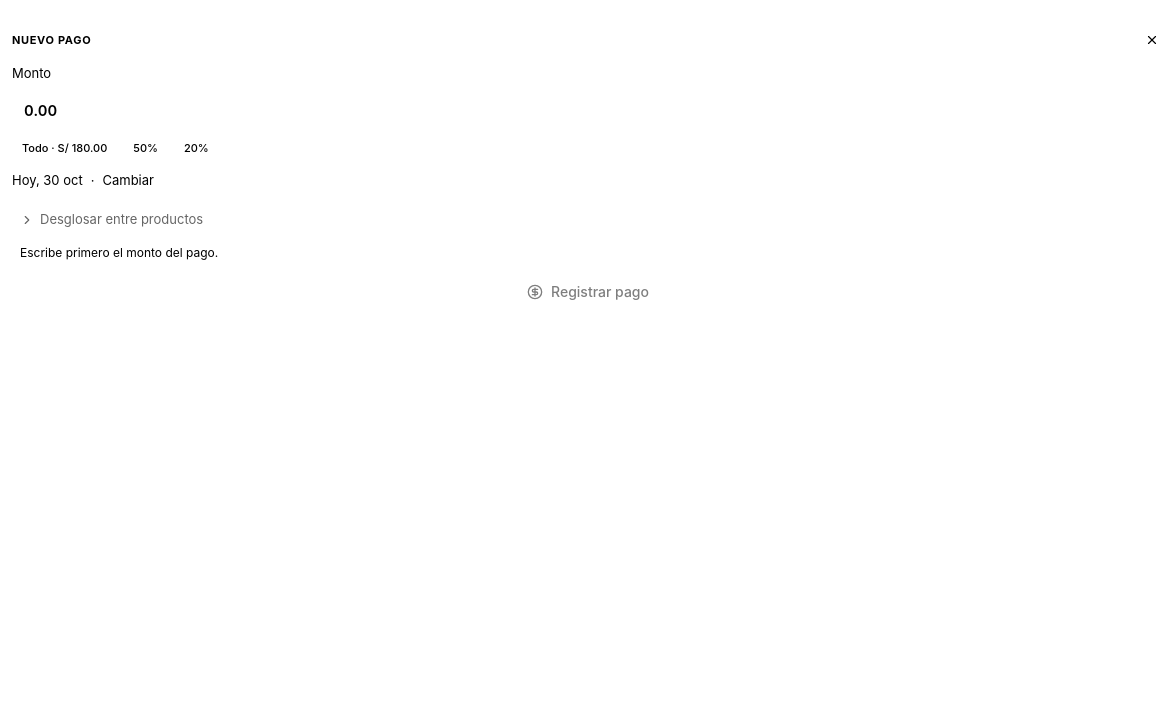
it: order payment breakdown · Marcar todos ticks and splits (§3.4) › lands every product on its own price, and pins none of them
This screenshot has width=1176, height=720.
Type "180.00" into the field labelled "Monto".
click(588, 111); type("180.00")  # box 12,90 -> 1164,132
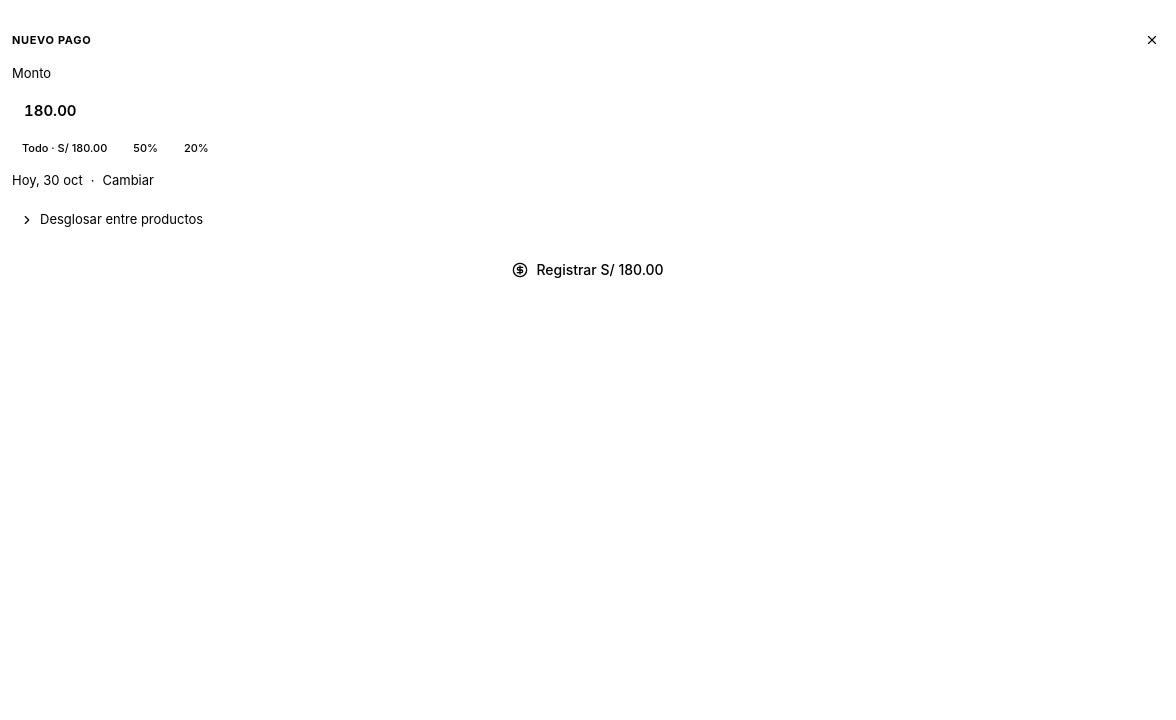
Click the button "Desglosar entre productos".
click(122, 219)  # box 12,200 -> 1164,240
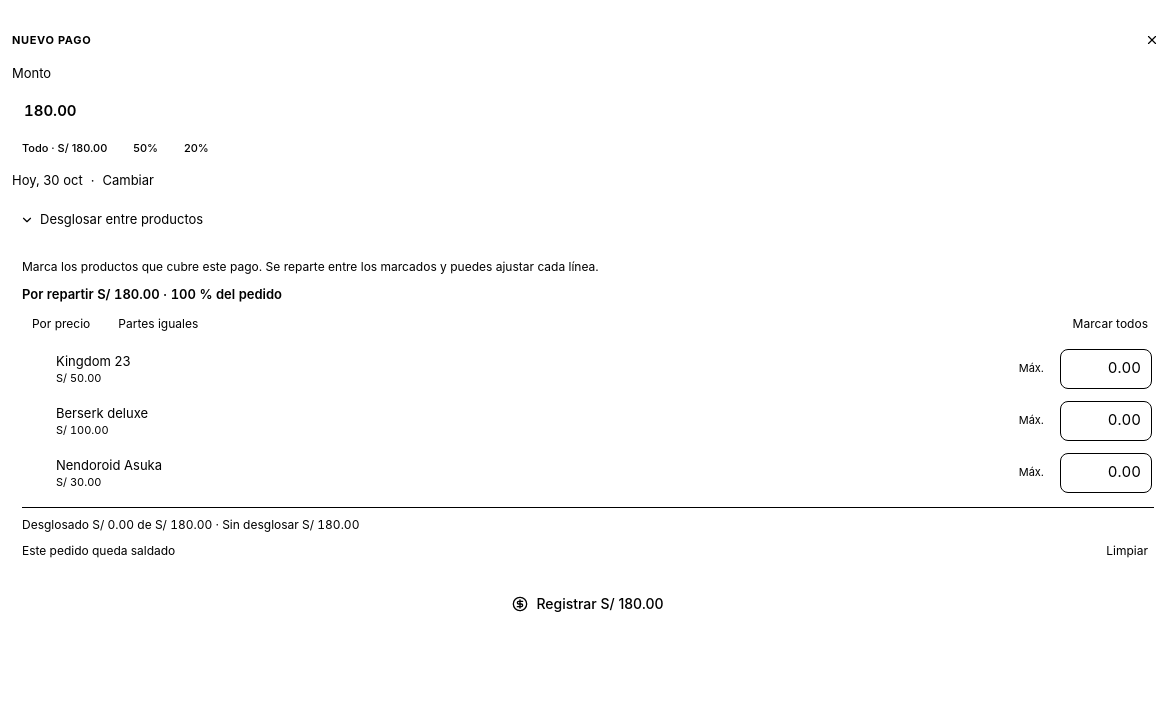
Click the button "Marcar todos".
click(1110, 324)  # box 1067,310 -> 1154,336
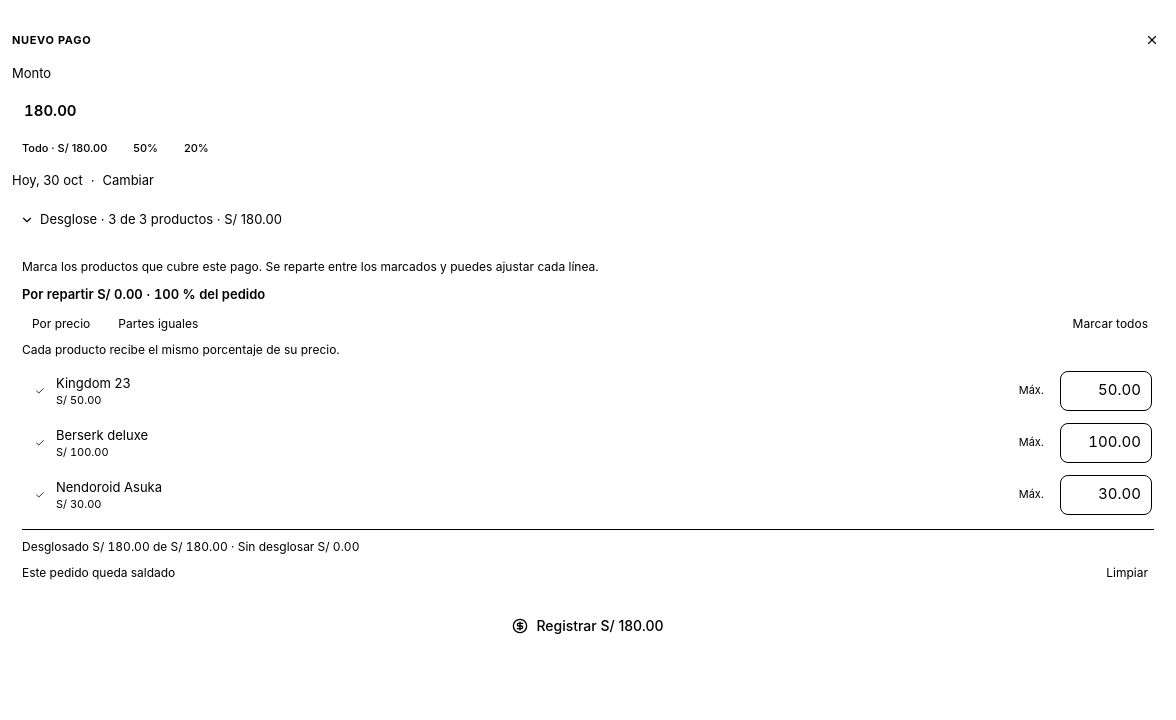
Now the field named "Monto para Kingdom 23" holds "50.00", box 1071,379 -> 1141,402
Now the field named "Monto para Berserk deluxe" holds "100.00", box 1071,431 -> 1141,454
Now the field named "Monto para Nendoroid Asuka" holds "30.00", box 1071,483 -> 1141,506
